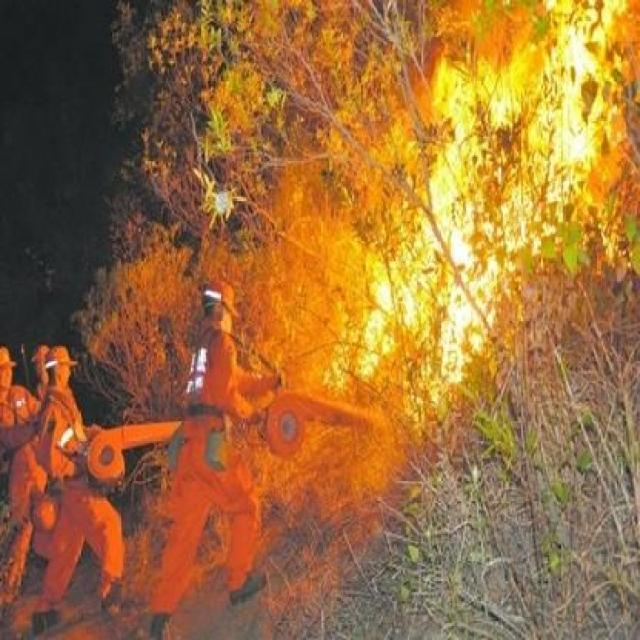Fire: (333, 1, 640, 408)
